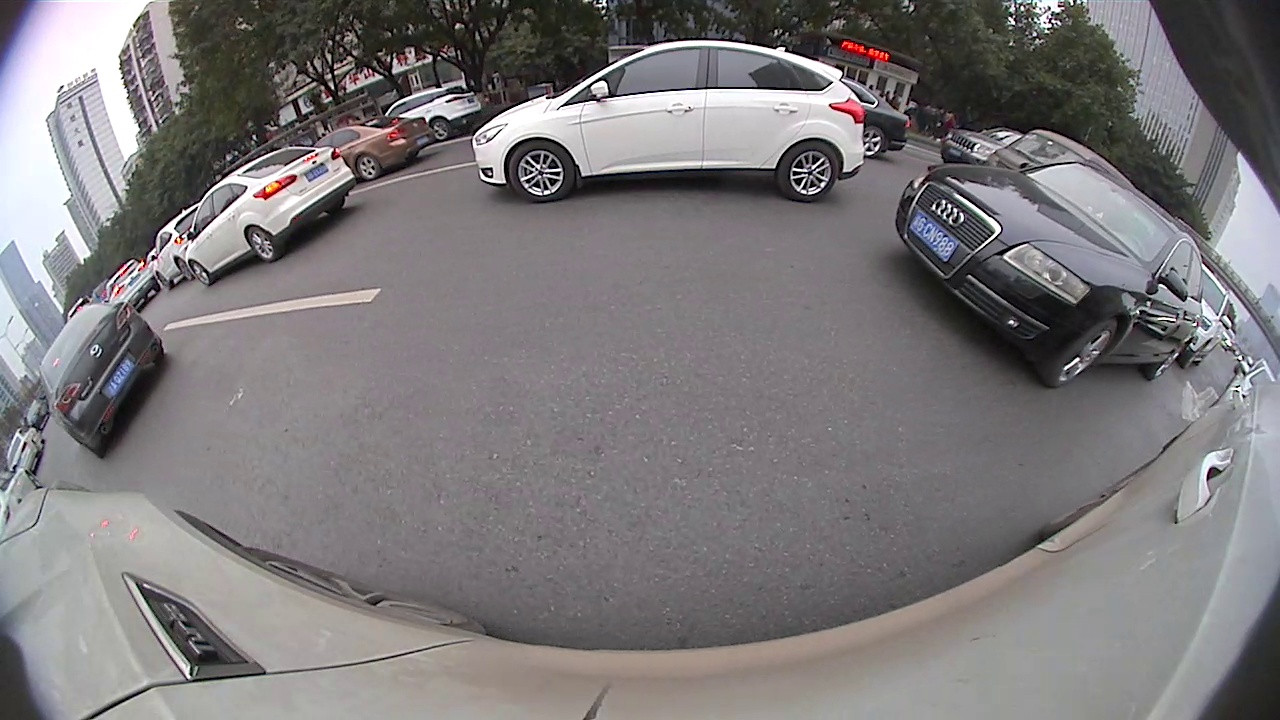car: (893, 161, 1205, 391), (460, 35, 866, 206), (184, 145, 358, 287), (40, 298, 166, 454), (308, 116, 435, 184), (149, 202, 221, 290), (101, 258, 163, 313), (3, 425, 49, 477)
front: (1050, 319, 1116, 388), (508, 139, 575, 203), (189, 259, 211, 287)
rear: (777, 139, 839, 203), (1149, 346, 1185, 380), (246, 225, 278, 263), (862, 125, 885, 158), (357, 153, 379, 180), (430, 118, 450, 142), (176, 259, 192, 282)
